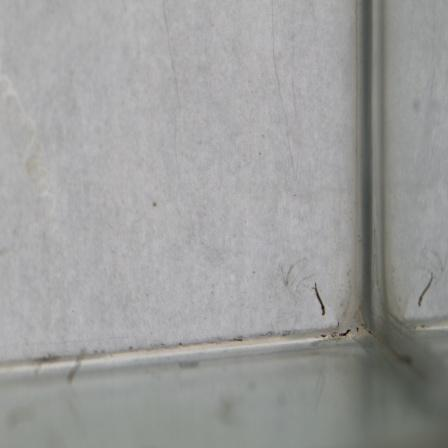Jentik-Nyamuk: (309, 279, 328, 321)
